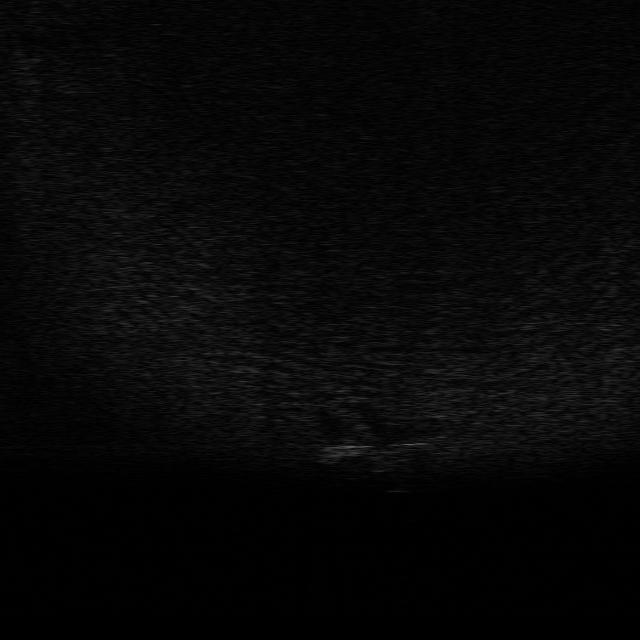plane: (311, 422, 439, 472)
